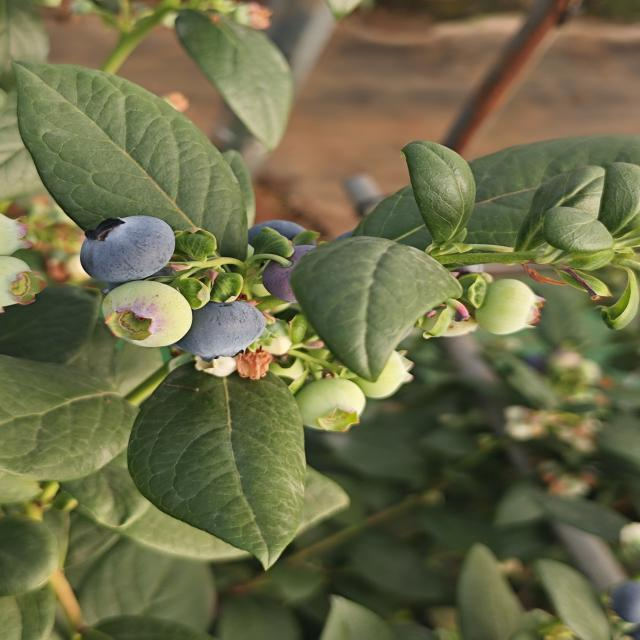ripe: (232, 214, 333, 302), (77, 213, 178, 286), (172, 298, 269, 363), (604, 565, 640, 633)
